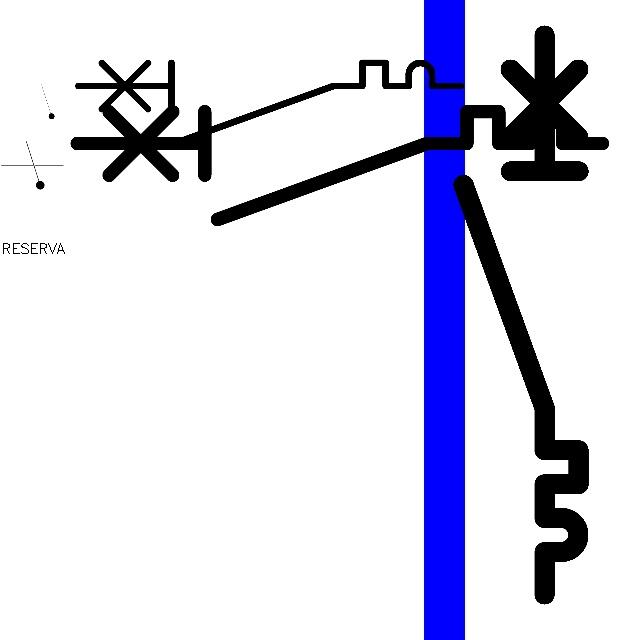interruptor_termomagnetico: (449, 21, 593, 609), (63, 98, 615, 233), (68, 53, 470, 151)
